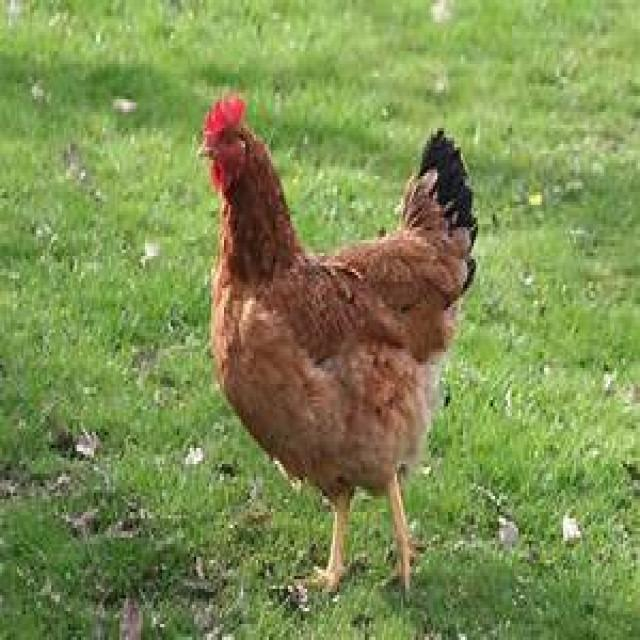hen: (202, 101, 475, 590)
